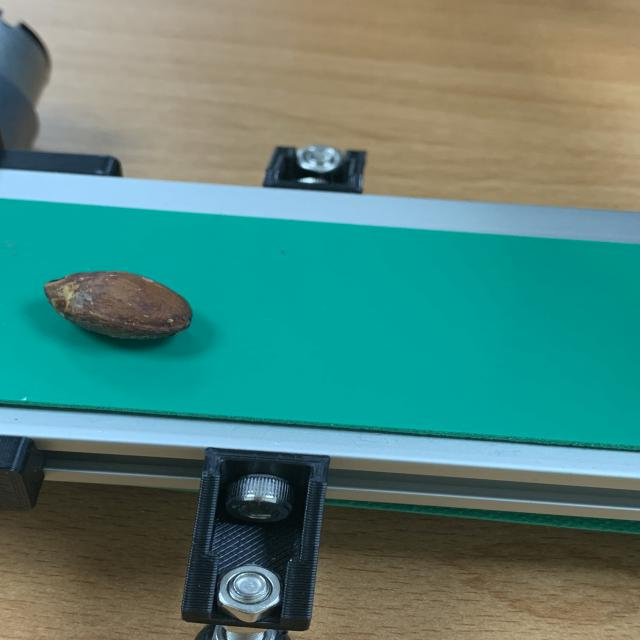Fine_cocoabeans: (0, 229, 282, 409)
